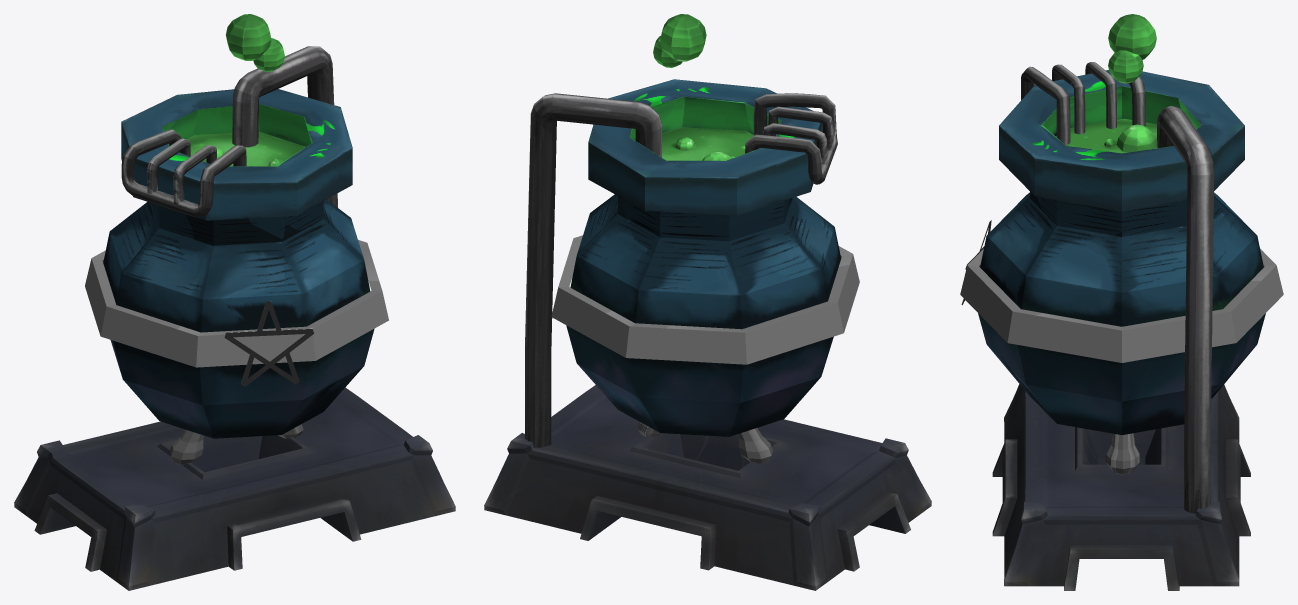
File: SM_Cauldron.glb
The picture shows the model from 3 angles, left to right: view 1: azimuth 30°, elevation 25°; view 2: azimuth 150°, elevation 25°; view 3: azimuth 270°, elevation 25°; orthographic projection. The views are drawn at different scales.
Parts seen in each view (by area): view 1: cauldron main, oven, cauldron metal, pipes, caldron bubbles, cauldorn mixture, cauldron pentagram, cauldron legs; view 2: cauldron main, oven, pipes, cauldron metal, cauldorn mixture, caldron bubbles, cauldron legs; view 3: cauldron main, oven, pipes, cauldron metal, caldron bubbles, cauldorn mixture, cauldron legs.
Boxes of the visible parts, bbox=[...] form: cauldron main: bbox=[103, 89, 374, 438]; oven: bbox=[14, 387, 455, 590]; cauldron metal: bbox=[85, 240, 388, 367]; pipes: bbox=[121, 46, 337, 217]; caldron bubbles: bbox=[226, 14, 284, 71]; cauldorn mixture: bbox=[186, 131, 305, 166]; cauldron pentagram: bbox=[224, 301, 313, 386]; cauldron legs: bbox=[169, 424, 303, 464]; cauldron main: bbox=[566, 79, 841, 436]; oven: bbox=[484, 385, 931, 590]; pipes: bbox=[525, 93, 837, 447]; cauldron metal: bbox=[551, 235, 859, 364]; cauldorn mixture: bbox=[662, 127, 753, 160]; caldron bubbles: bbox=[653, 14, 706, 67]; cauldron legs: bbox=[637, 422, 772, 464]; cauldron main: bbox=[978, 70, 1265, 434]; oven: bbox=[992, 384, 1250, 590]; pipes: bbox=[1021, 62, 1214, 513]; cauldron metal: bbox=[960, 248, 1283, 362]; caldron bubbles: bbox=[1108, 14, 1156, 83]; cauldorn mixture: bbox=[1056, 118, 1157, 153]; cauldron legs: bbox=[1105, 433, 1139, 474].
Size of the model in its own units: 1.05 by 1.43 by 0.831.
3 materials, 3 textured.
